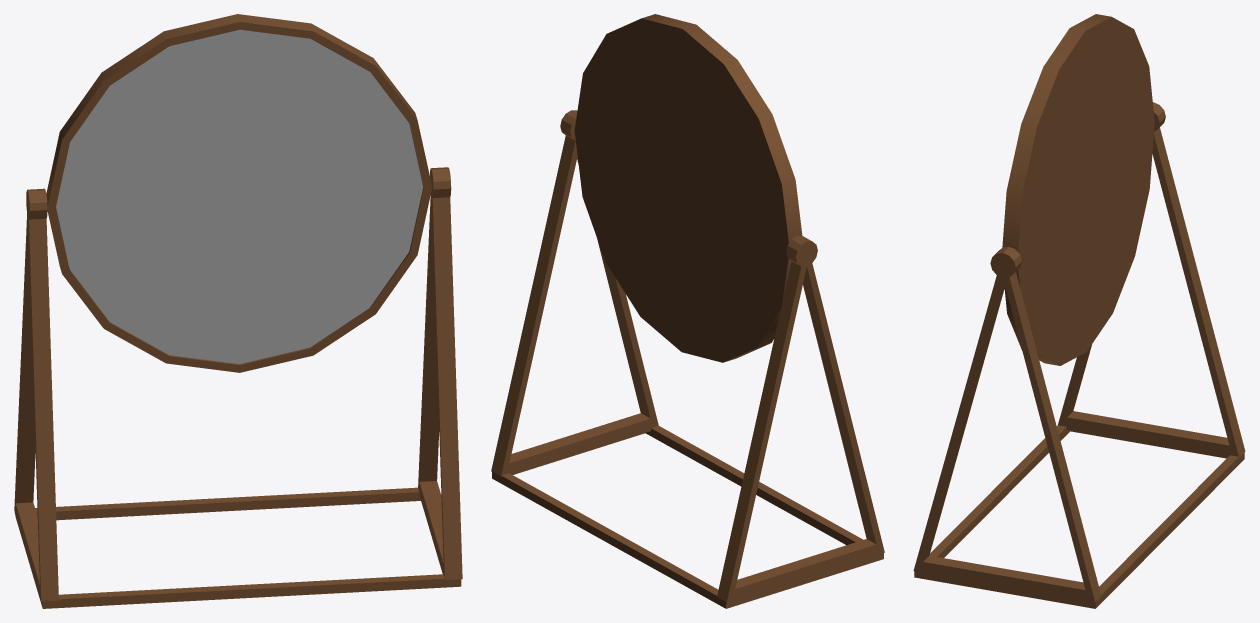
The model's file is mirror stand.fbx.
3 views of the same model, side by side, from view 1: azimuth 30°, elevation 25°; view 2: azimuth 150°, elevation 25°; view 3: azimuth 270°, elevation 25° (orthographic). The views are drawn at different scales.
Visible parts, largest first — view 1: mirror, stand, mirror_base, stand_base; view 2: mirror_base, stand, stand_base; view 3: mirror_base, stand, stand_base.
Part boxes in pixels (x1,y1,x2,y2): mirror: (56, 29, 423, 363); stand: (14, 167, 462, 601); mirror_base: (46, 14, 432, 372); stand_base: (15, 487, 461, 608); mirror_base: (574, 14, 802, 362); stand: (491, 110, 884, 602); stand_base: (492, 426, 883, 608); mirror_base: (1002, 14, 1154, 365); stand: (913, 102, 1245, 602); stand_base: (914, 425, 1244, 608).
Size of the model in its own units: 169 by 210 by 130.
